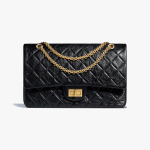channel: (12, 41, 133, 113), (47, 47, 98, 77), (101, 58, 122, 100), (64, 86, 90, 103)
